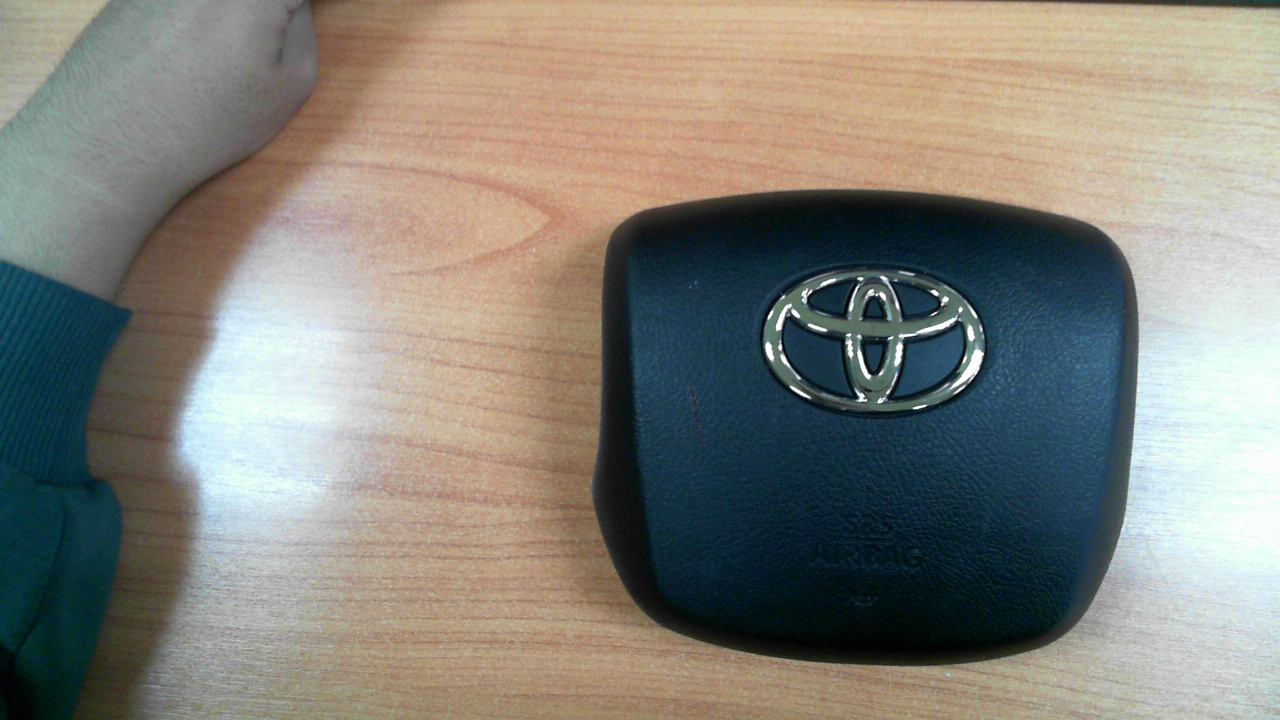Airbag: (590, 195, 1145, 665)
Toyota: (762, 269, 986, 412)
